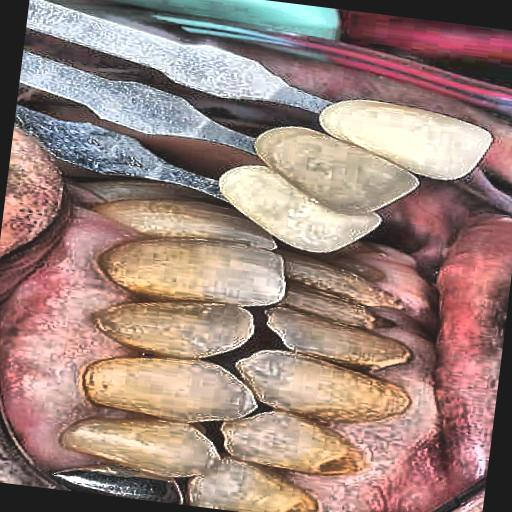Calculus: (30, 170, 430, 505)
